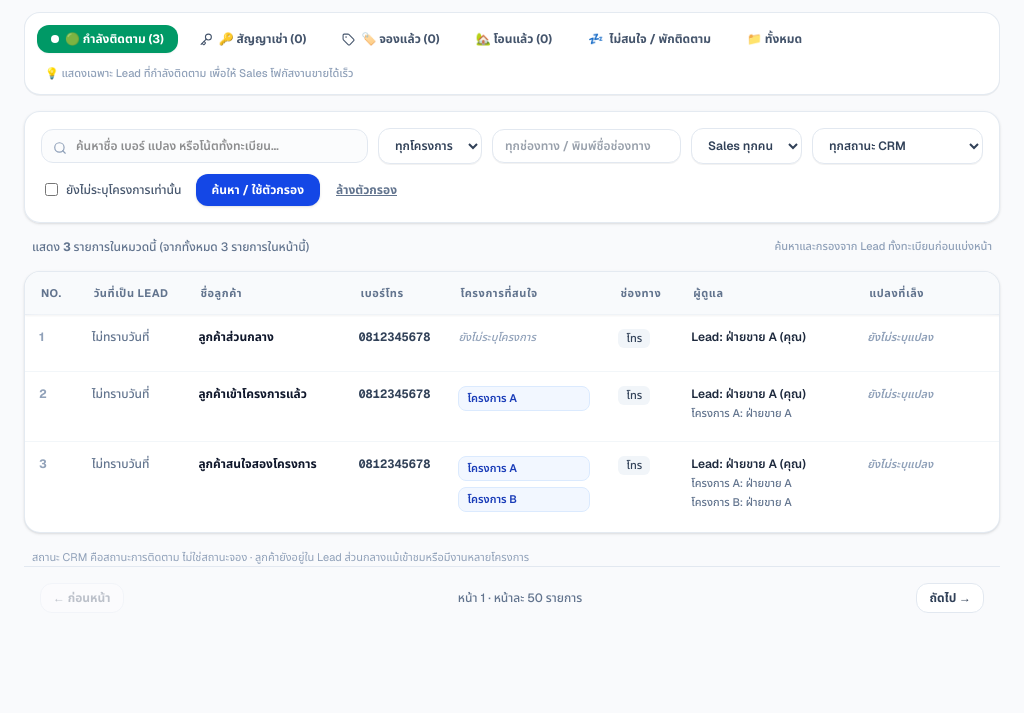
Test: central lead workspace › clears old account data immediately and ignores its late response
(page scrolled)
expect the table is shown: met, box [25,272,999,532]
Click the button "ถัดไป →".
click(950, 598)  # box [916,583,984,613]
(page scrolled)
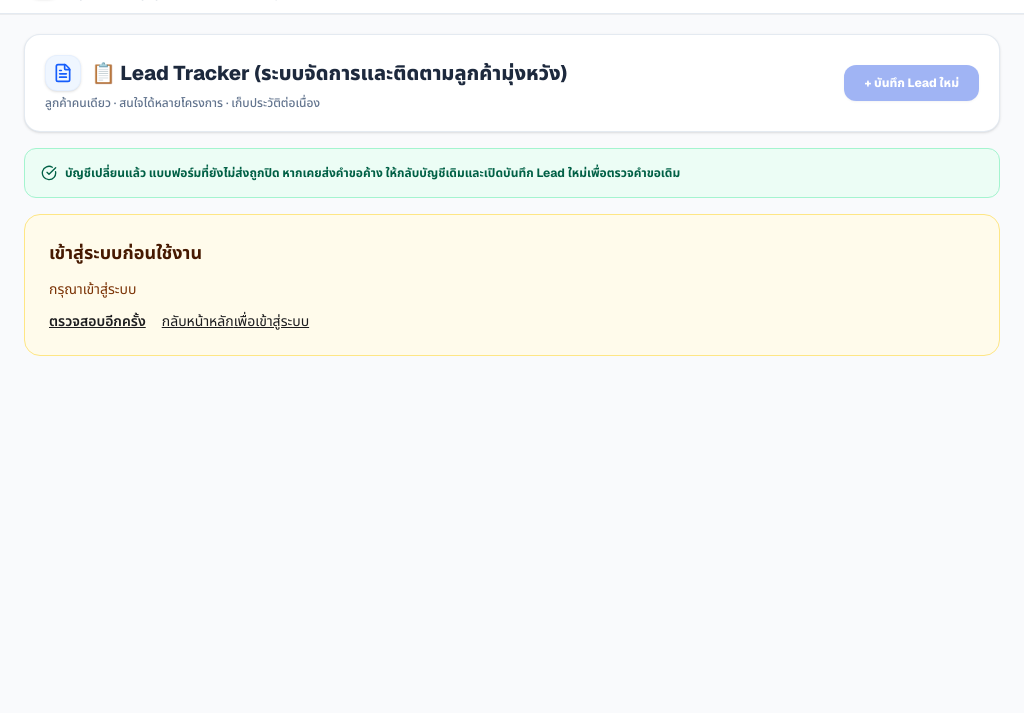
expect the heading "เข้าสู่ระบบก่อนใช้งาน" is shown: met, box [49,241,202,264]
expect the text "ลูกค้าส่วนกลาง" is gone: met
expect the table is gone: met
